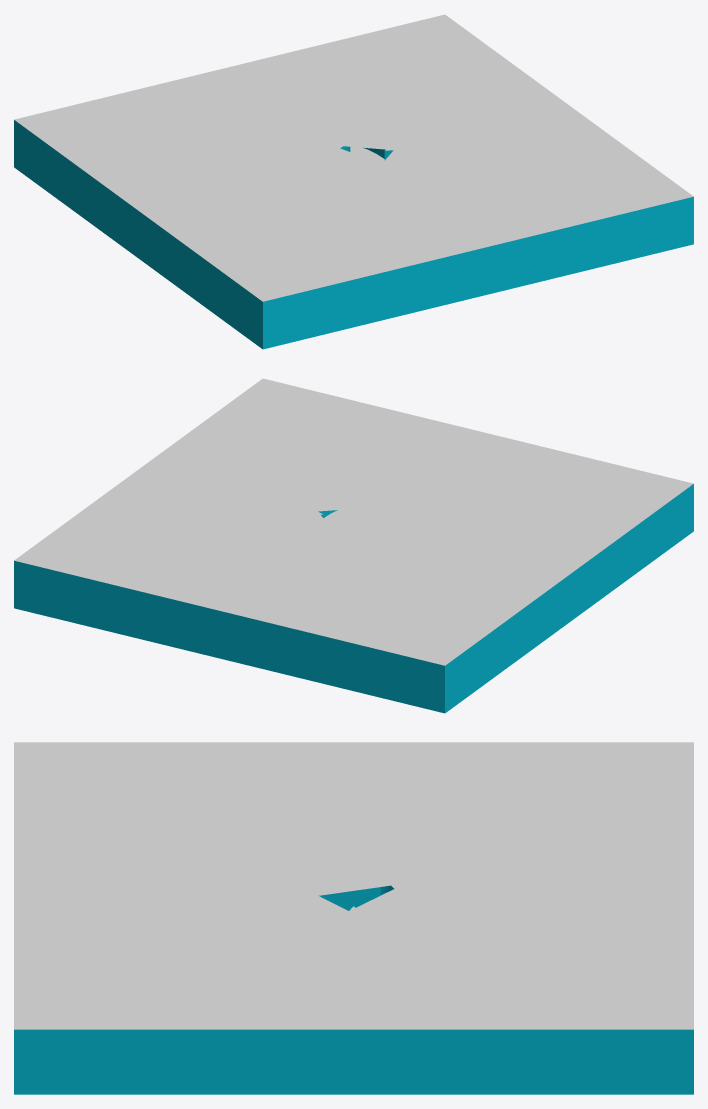
File: stracout3.fbx
The picture shows the model from 3 angles, top to bottom: view 1: azimuth 30°, elevation 25°; view 2: azimuth 150°, elevation 25°; view 3: azimuth 270°, elevation 25°; orthographic projection. The views are drawn at different scales.
Visible parts, largest first — view 1: 3; view 2: 3; view 3: 3.
Part boxes in pixels (left/top/right/bottom): 3: left=14, top=14, right=693, bottom=349; 3: left=14, top=378, right=693, bottom=713; 3: left=14, top=742, right=693, bottom=1094.
Bounding box in the file's own units: 464 × 49.06 × 464.
